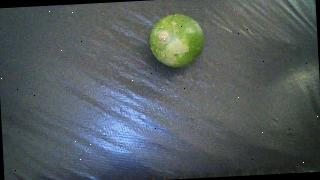DESECHO: (149, 13, 206, 69)
